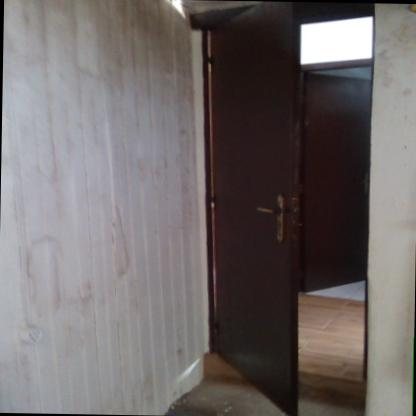semi: (187, 1, 383, 416)
